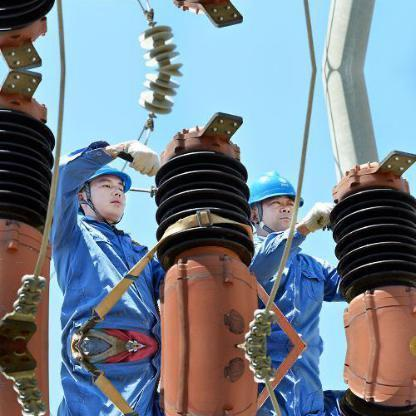helmet: (246, 168, 305, 208), (82, 163, 134, 193)
